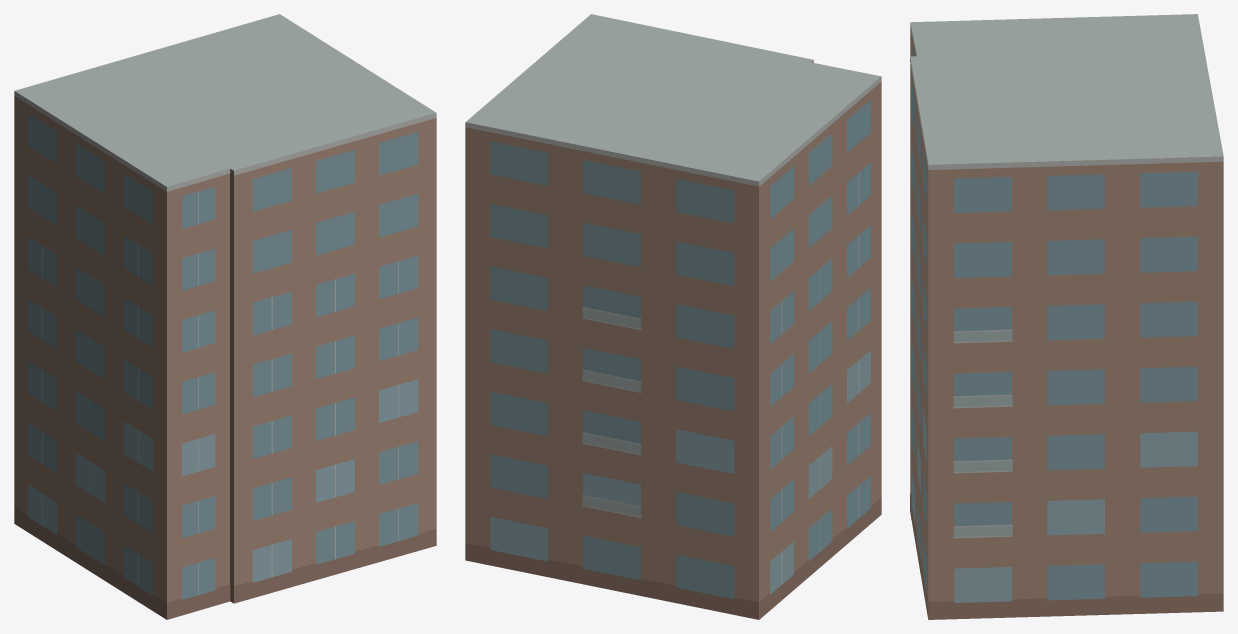
File: survey-upis-32636748.glb
The picture shows the model from 3 angles, left to right: view 1: azimuth 30°, elevation 25°; view 2: azimuth 150°, elevation 25°; view 3: azimuth 270°, elevation 25°; orthographic projection. The views are drawn at different scales.
Parts seen in each view (by area): view 1: survey-upis-32636748.tmp; view 2: survey-upis-32636748.tmp; view 3: survey-upis-32636748.tmp.
Boxes of the visible parts, x1,y1,x2,y2 form: survey-upis-32636748.tmp: (14,14,436,619); survey-upis-32636748.tmp: (465,14,881,619); survey-upis-32636748.tmp: (910,14,1223,619).
Bounding box in the file's own units: 15.19 × 21.35 × 13.34.
